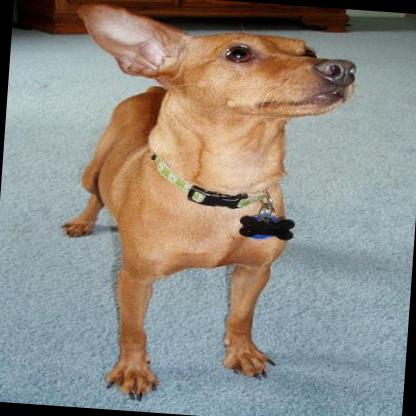miniature_pinscher: (39, 0, 361, 413)
